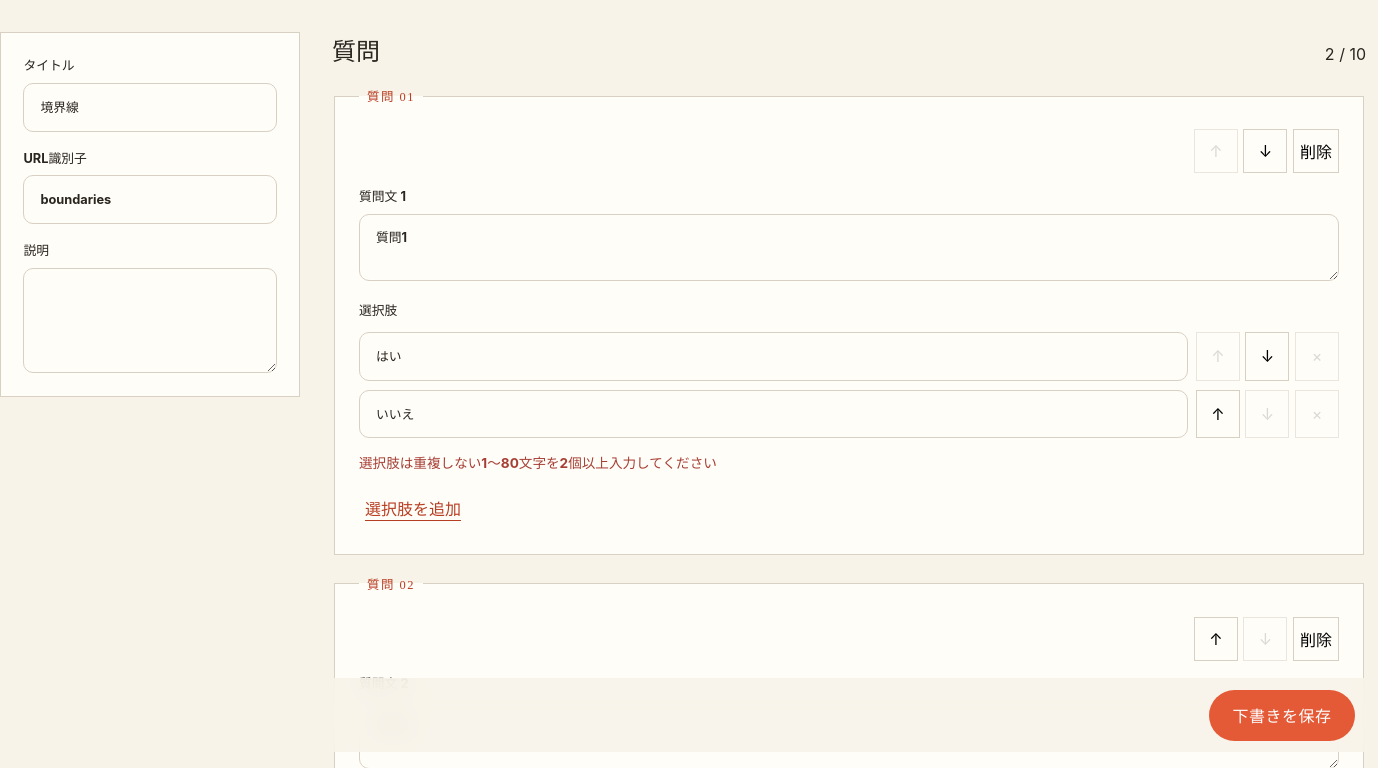
moves questions and displays field validation issues
This screenshot has width=1378, height=768.
What coordinates should you click on to do the following:
click the button named "1問目を下へ"
I would click on:
 (1265, 151)
Its box is [1243, 129, 1287, 173].
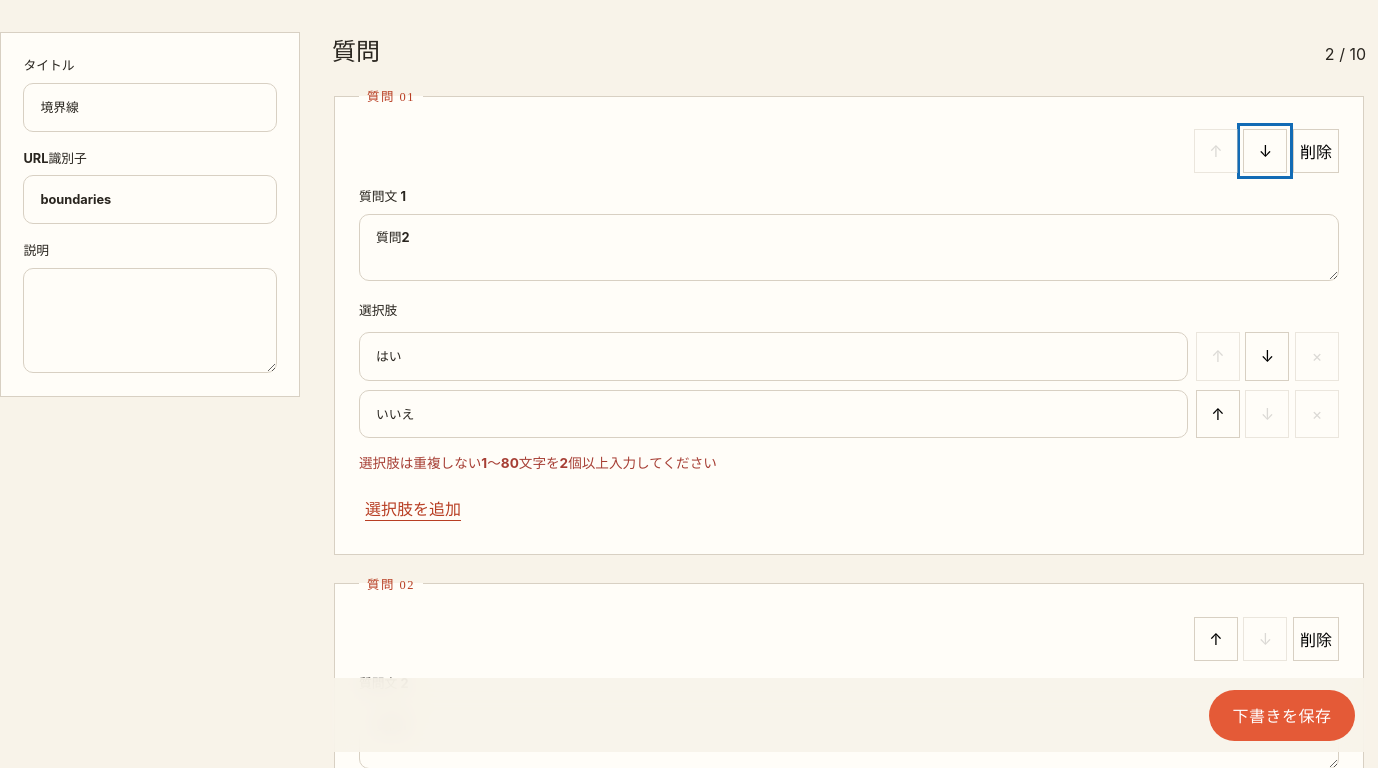
Expected: the text "選択肢は重複しない1〜80文字を2個以上入力してください" is shown, [359, 455, 717, 471]
Expected: the text box labelled "質問文 1" holds "質問2", [359, 214, 1339, 281]
